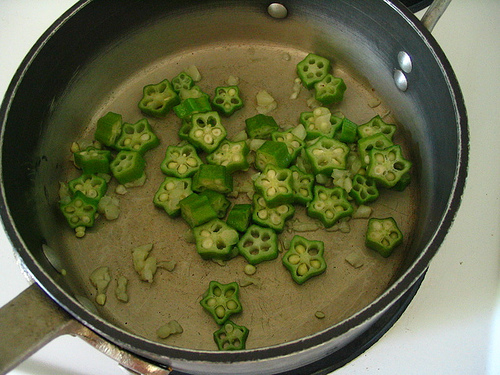okra: (59, 51, 409, 351)
